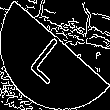L_NE: (29, 26, 81, 84)
